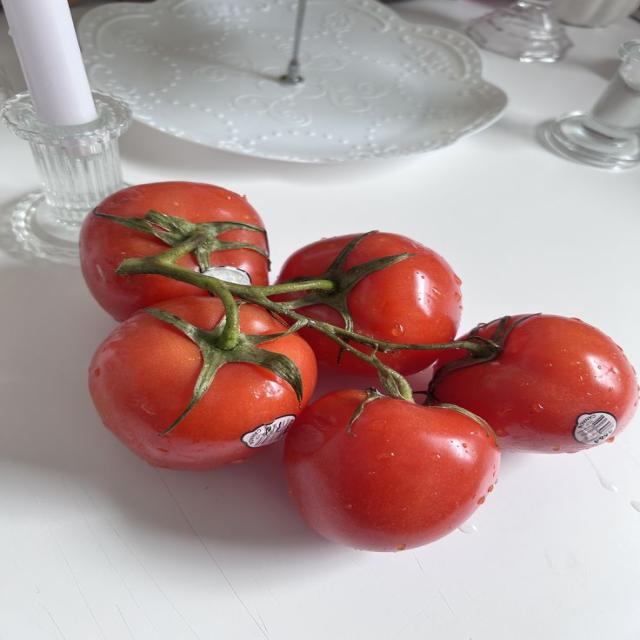tomato: (89, 311, 316, 469), (285, 390, 499, 551), (434, 315, 638, 452), (80, 213, 206, 320), (343, 233, 461, 343)
